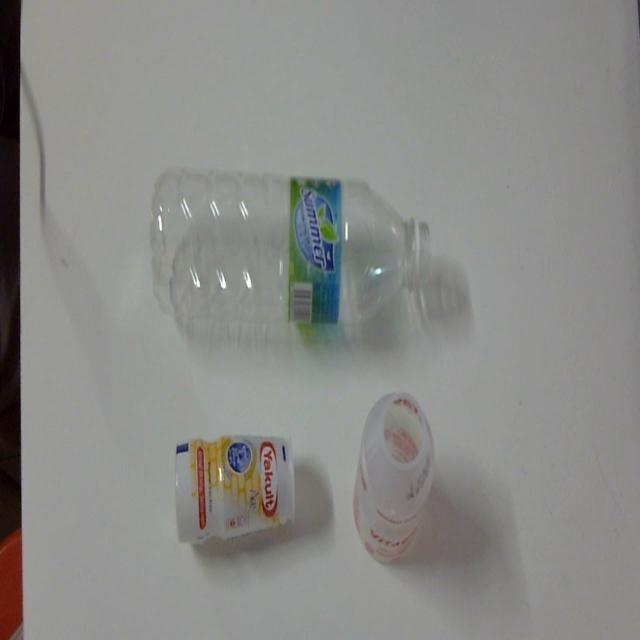plastic_laydown_0rotation: (144, 152, 434, 322), (169, 414, 299, 549)
plastic_standrotation: (349, 385, 445, 574)
